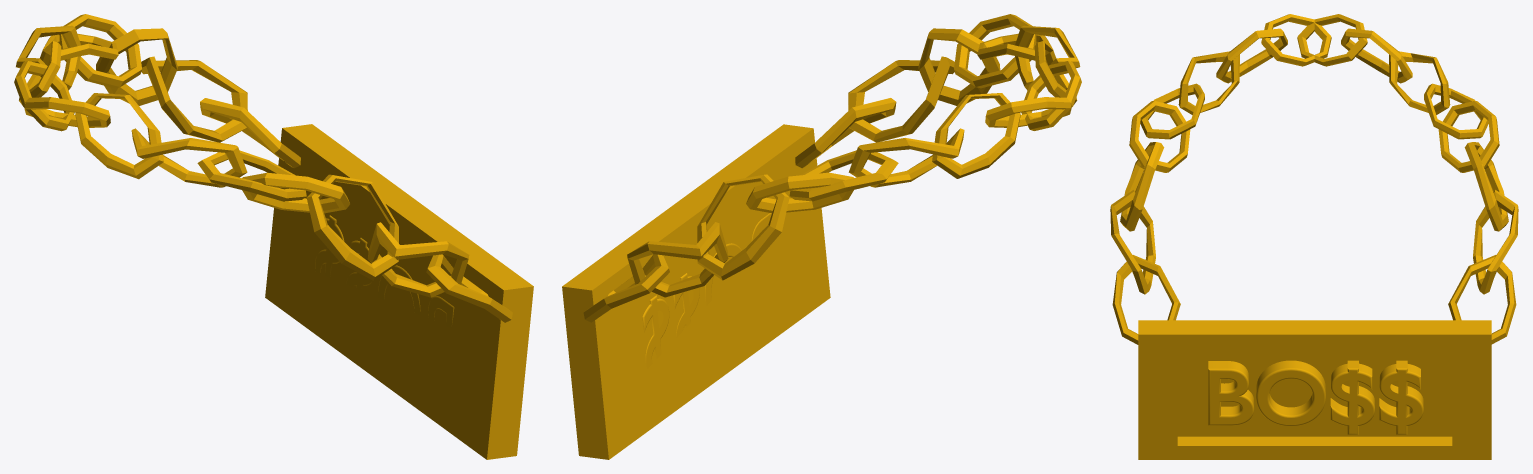
Rendered from Cuello1.fbx.
The picture shows the model from 3 angles, left to right: view 1: azimuth 30°, elevation 25°; view 2: azimuth 150°, elevation 25°; view 3: azimuth 270°, elevation 25°; orthographic projection. The views are drawn at different scales.
Visible parts, largest first — view 1: Cadenas; view 2: Cadenas; view 3: Cadenas.
Boxes of the visible parts, x1=… form: Cadenas: x1=14, y1=14, x2=533, y2=459; Cadenas: x1=562, y1=14, x2=1081, y2=459; Cadenas: x1=1110, y1=14, x2=1518, y2=459.
Bounding box in the file's own units: 111 × 102 × 123.
